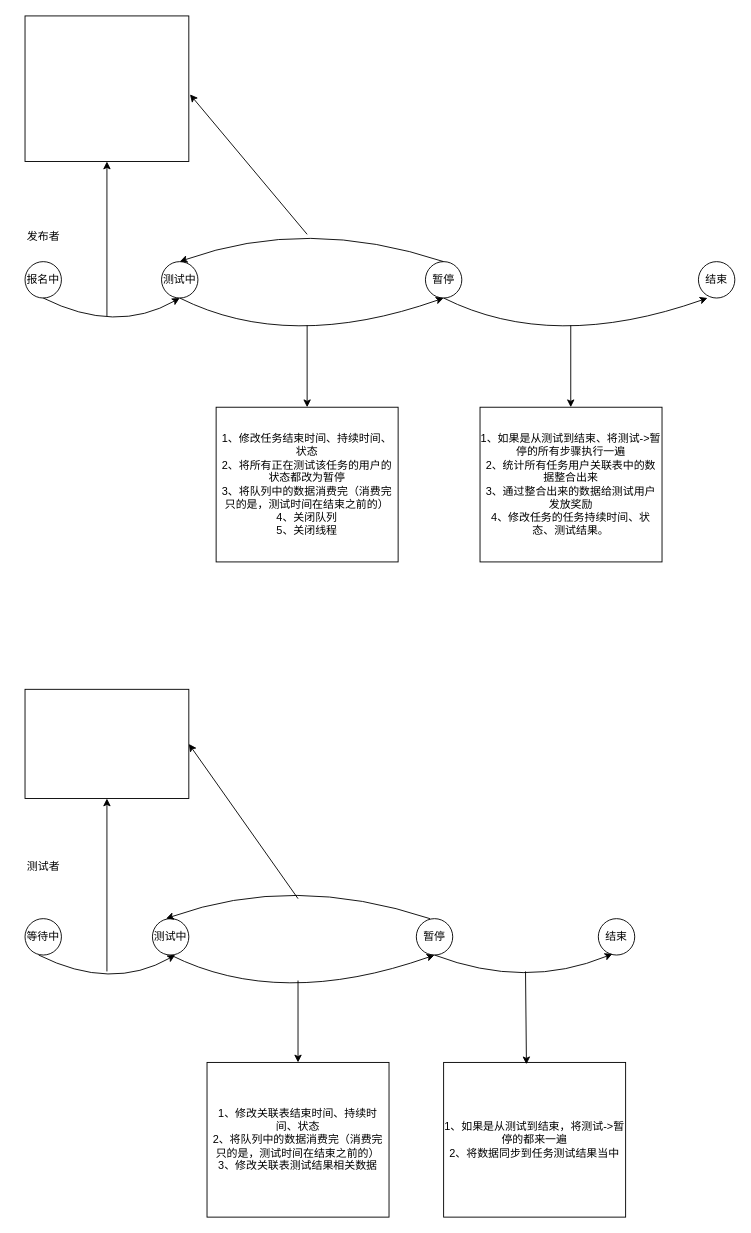
Some shapes in this 751 by 1233 pixel diagram are drawn without their labels. The centre of each missing label's shape, as x and y in pixels:
1、修改关联表开始时间和状态: [106,743]
1、创建接受测试结果的队列 2、创建收集并处理结果的线程 3、修改任务开始时间和状态: [106,88]
